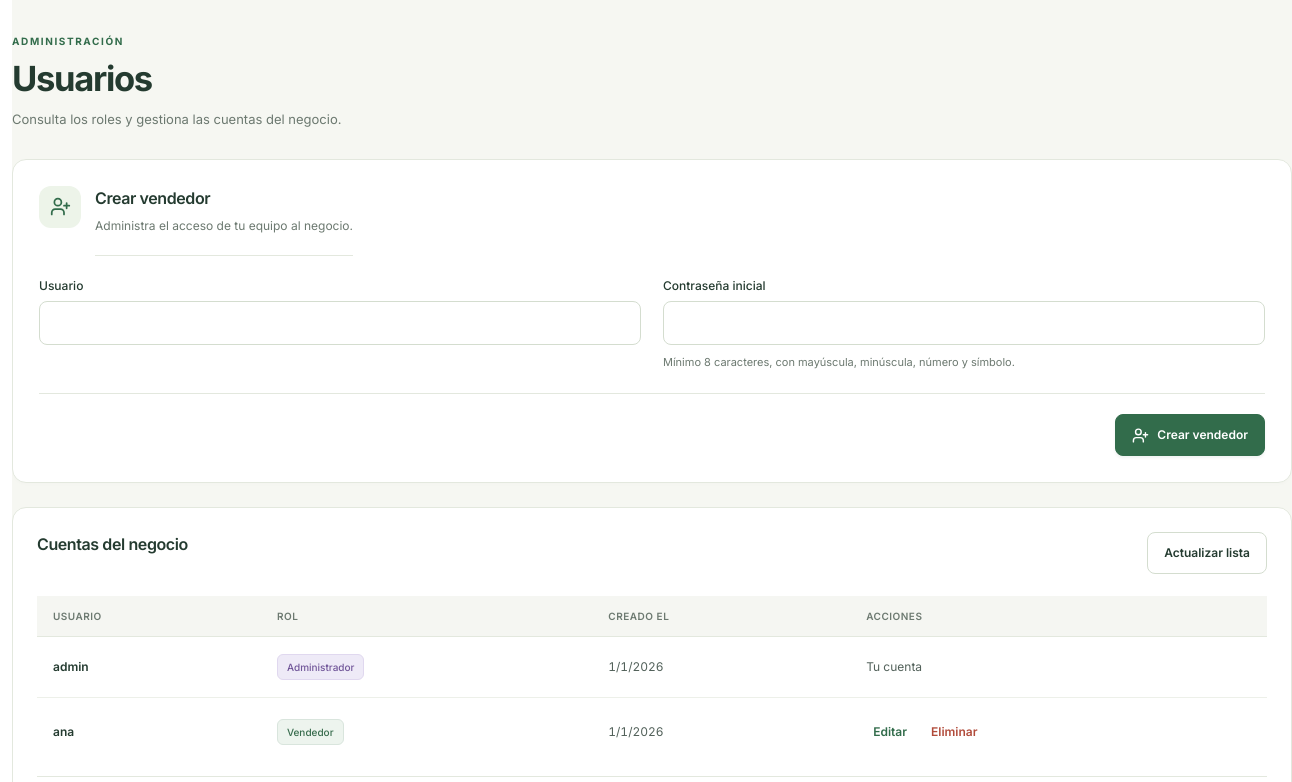
Test: usuarios muestra roles y crea vendedores desde el formulario
Expected: the text "Tu cuenta" is shown, [866,659,922,674]
Expected: the text "Administrador" is shown, [277,654,364,680]
Type "luis" into the field labelled "Usuario" at (340, 323), box [39,301,641,345]
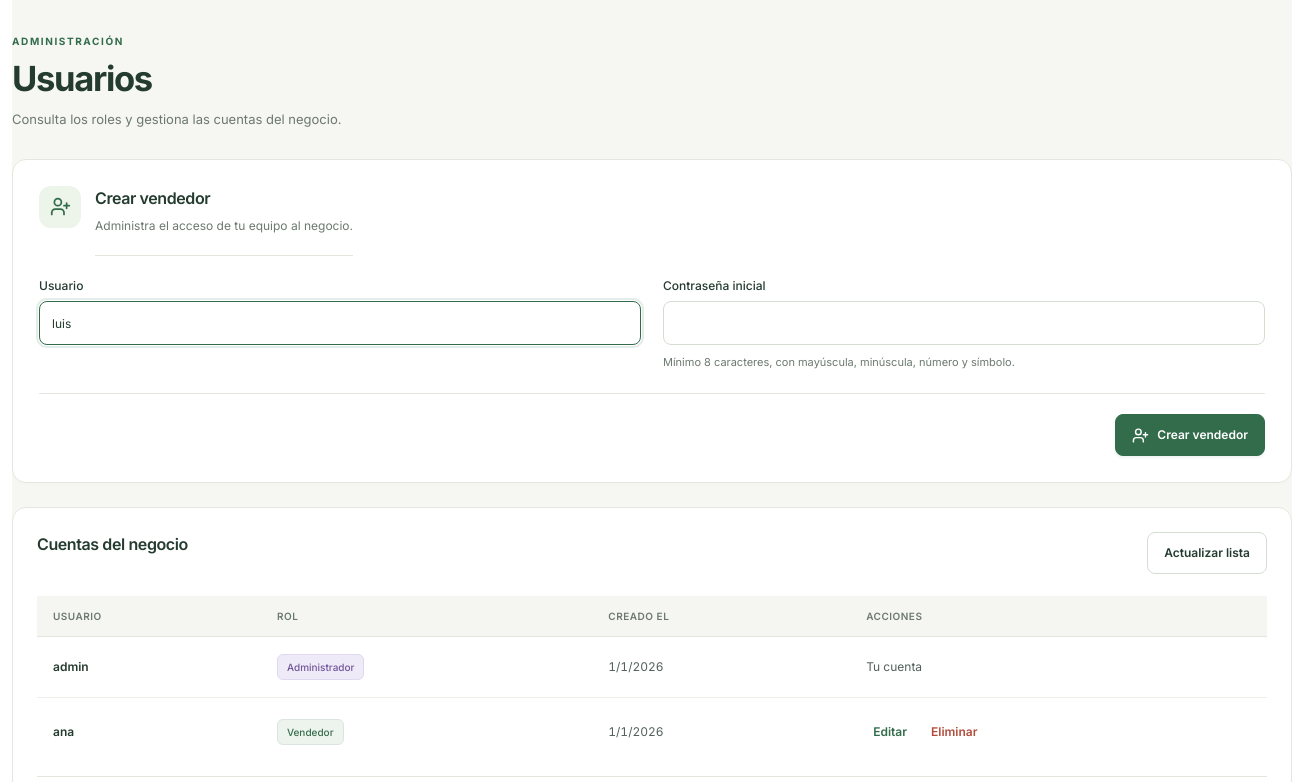
Type "Segura123!" into the password field labelled "Contraseña inicial" at (964, 323), box [663,301,1265,345]
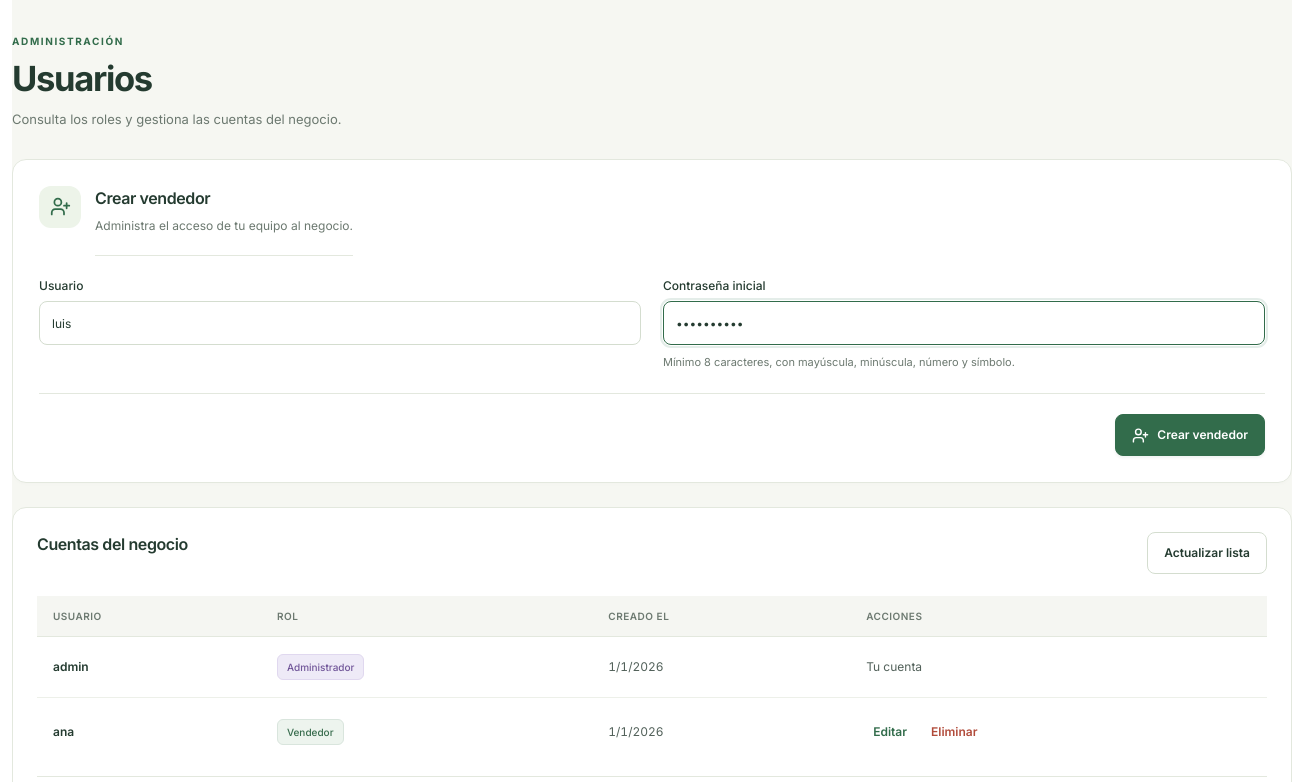
Click the button "Crear vendedor" at (1190, 435), box [1115,414,1265,456]
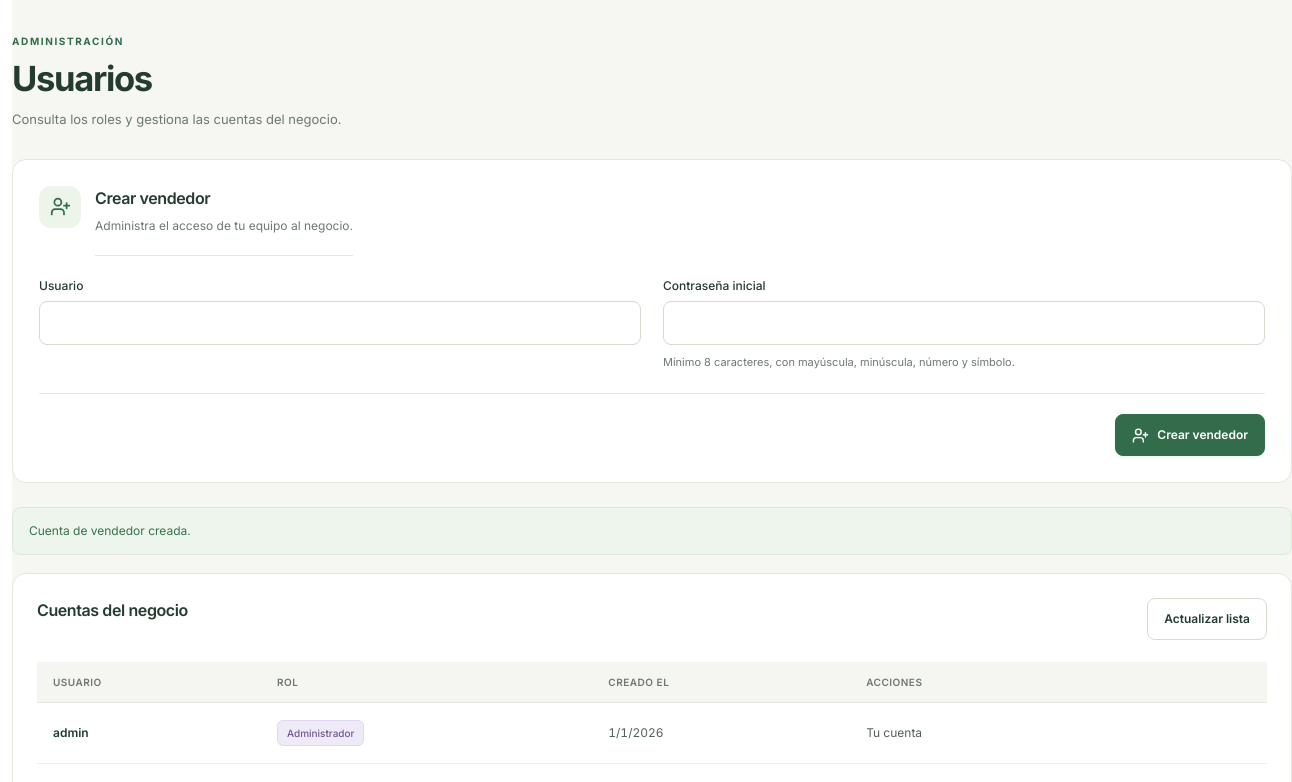
Now the message reads "Cuenta de vendedor creada.", box [29,523,191,538]
